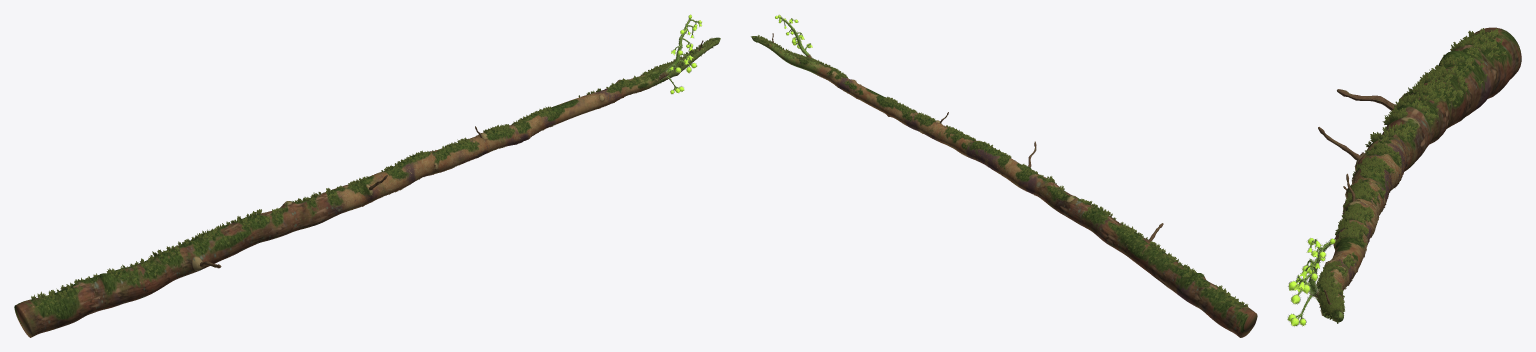
Rendered from branch.glb.
The picture shows the model from 3 angles, left to right: view 1: azimuth 30°, elevation 25°; view 2: azimuth 150°, elevation 25°; view 3: azimuth 270°, elevation 25°; orthographic projection. The views are drawn at different scales.
Parts seen in each view (by area): view 1: perch, moss, hairs_twig; view 2: perch, moss, hairs_twig; view 3: perch, moss, hairs_twig, hairs, buds, twiglets, shoot.
Part boxes in pixels (x1,y1,x2,y2): perch: (14,37,720,337); moss: (31,38,716,316); hairs_twig: (325,44,717,218); perch: (751,36,1257,337); moss: (756,35,1248,308); hairs_twig: (769,42,1049,201); perch: (1316,27,1521,322); moss: (1316,28,1505,323); hairs_twig: (1318,136,1410,321); hairs: (1287,238,1335,326); buds: (1287,238,1335,325); twiglets: (1318,89,1396,304); shoot: (1296,239,1331,318).
Size of the model in its own units: 7.87 by 2.38 by 1.49.
6 materials, 5 textured.
